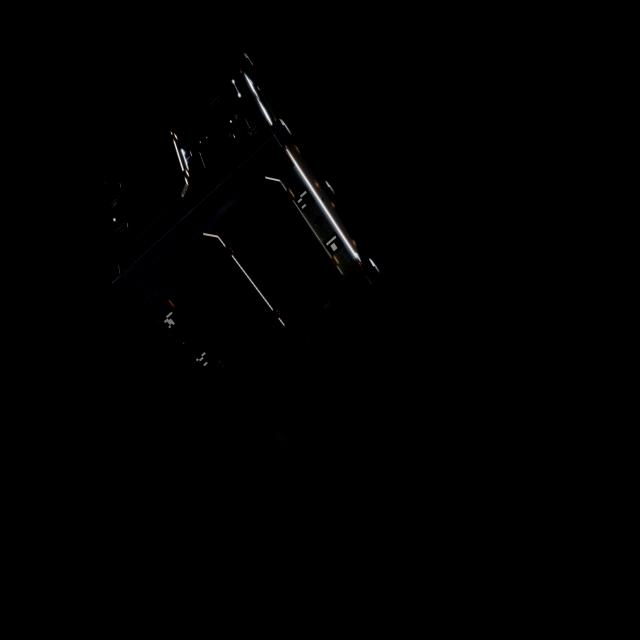satellite: (90, 50, 380, 420)
